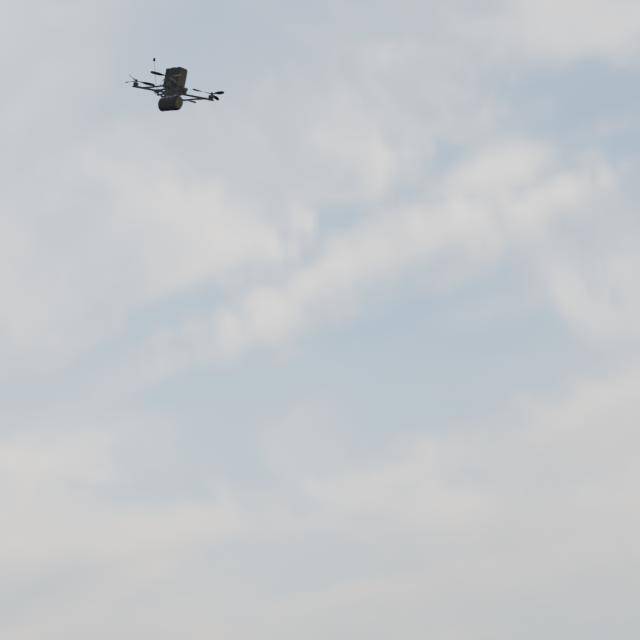drone: (125, 58, 224, 113)
